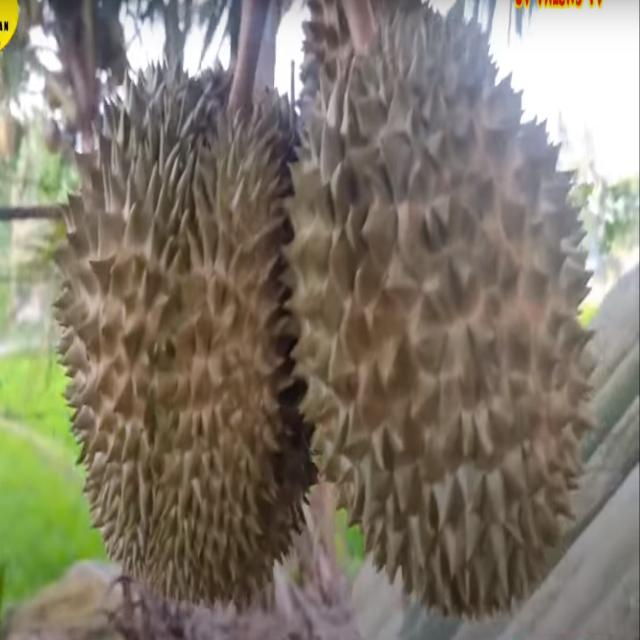mature: (283, 0, 598, 635), (48, 61, 319, 616)
